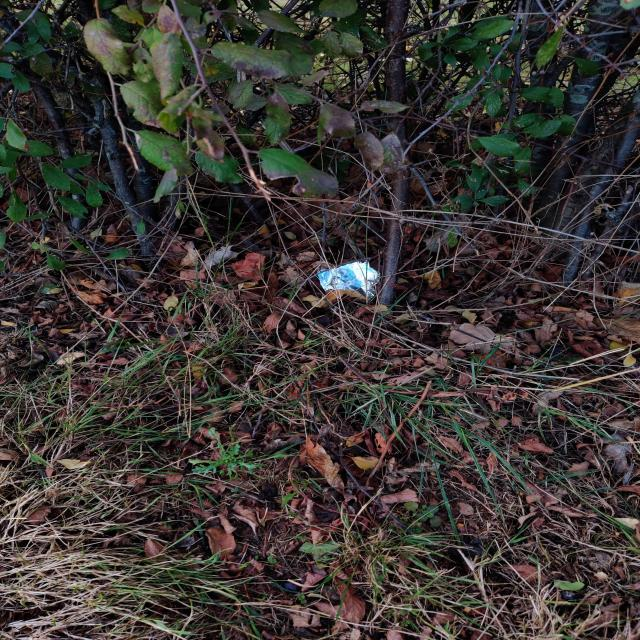litter: (318, 262, 380, 299)
